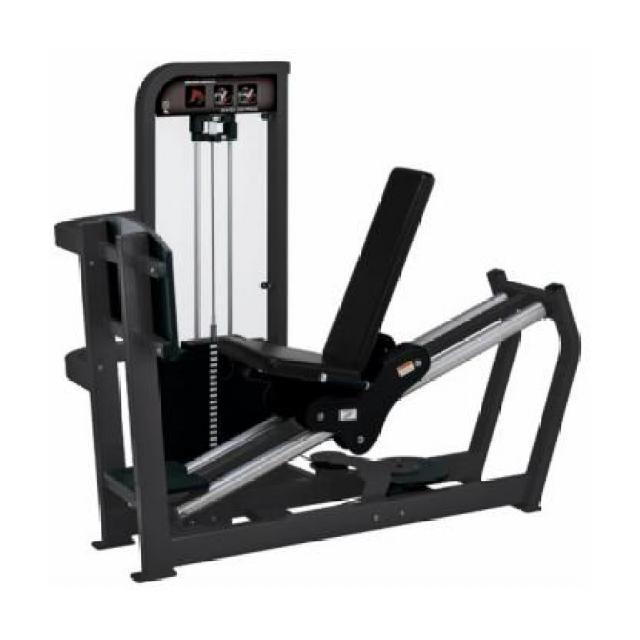leg press: (29, 48, 596, 592)
